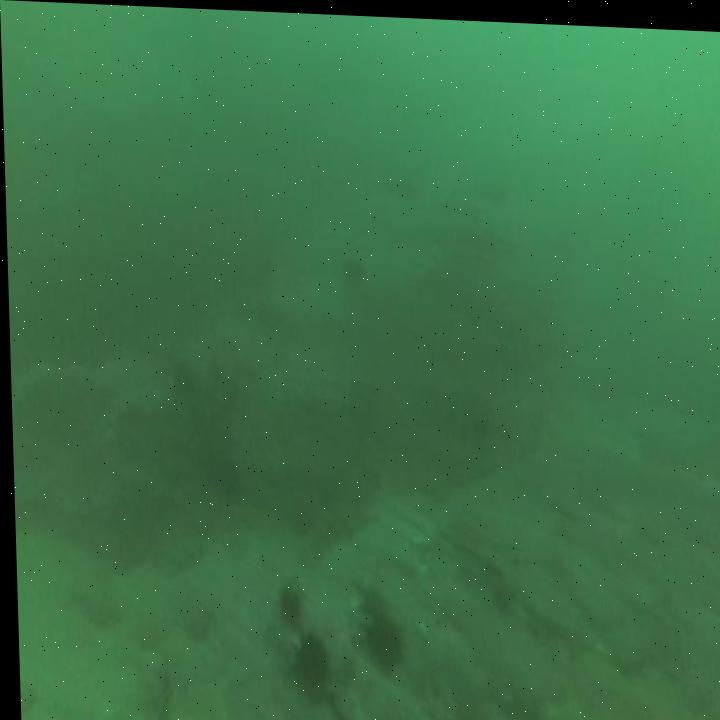echinus: (362, 611, 402, 671), (294, 633, 323, 688), (273, 582, 294, 621)
